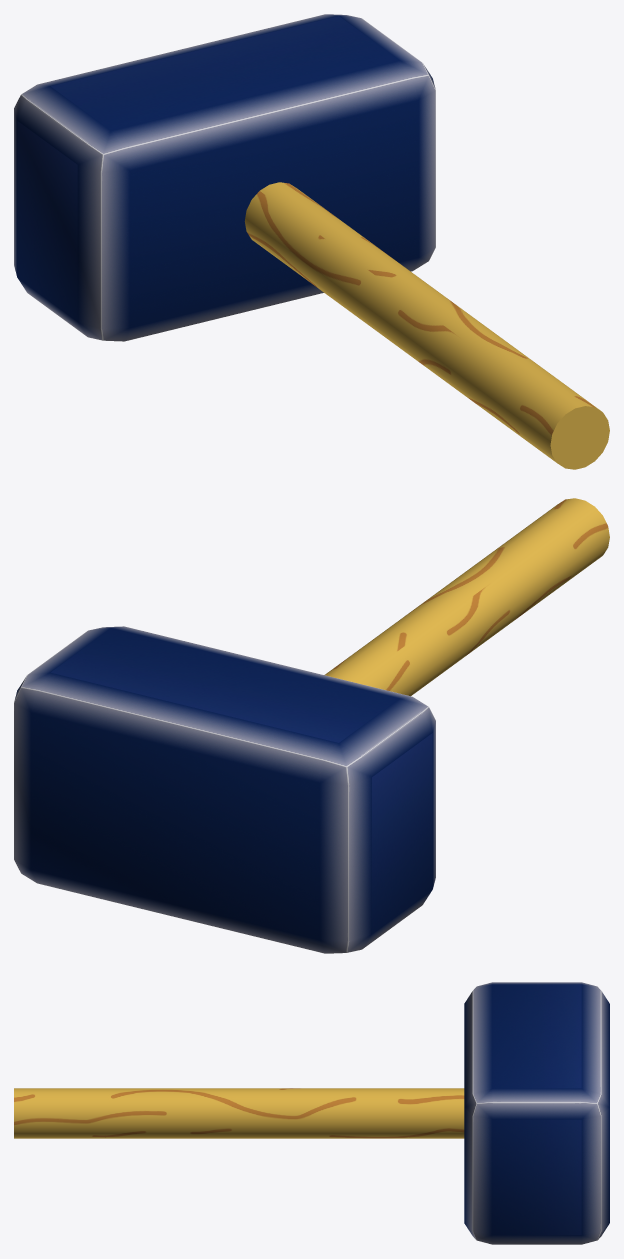
File: hammer_rescale.FBX
The picture shows the model from 3 angles, top to bottom: view 1: azimuth 30°, elevation 25°; view 2: azimuth 150°, elevation 25°; view 3: azimuth 270°, elevation 25°; orthographic projection. The views are drawn at different scales.
Visible parts, largest first — view 1: Box001; view 2: Box001; view 3: Box001.
Boxes of the visible parts, x1,y1,x2,y2 form: Box001: (14,14,609,469); Box001: (14,498,609,953); Box001: (14,982,609,1244).
Bounding box in the file's own units: 21.84 × 43.14 × 12.29.
